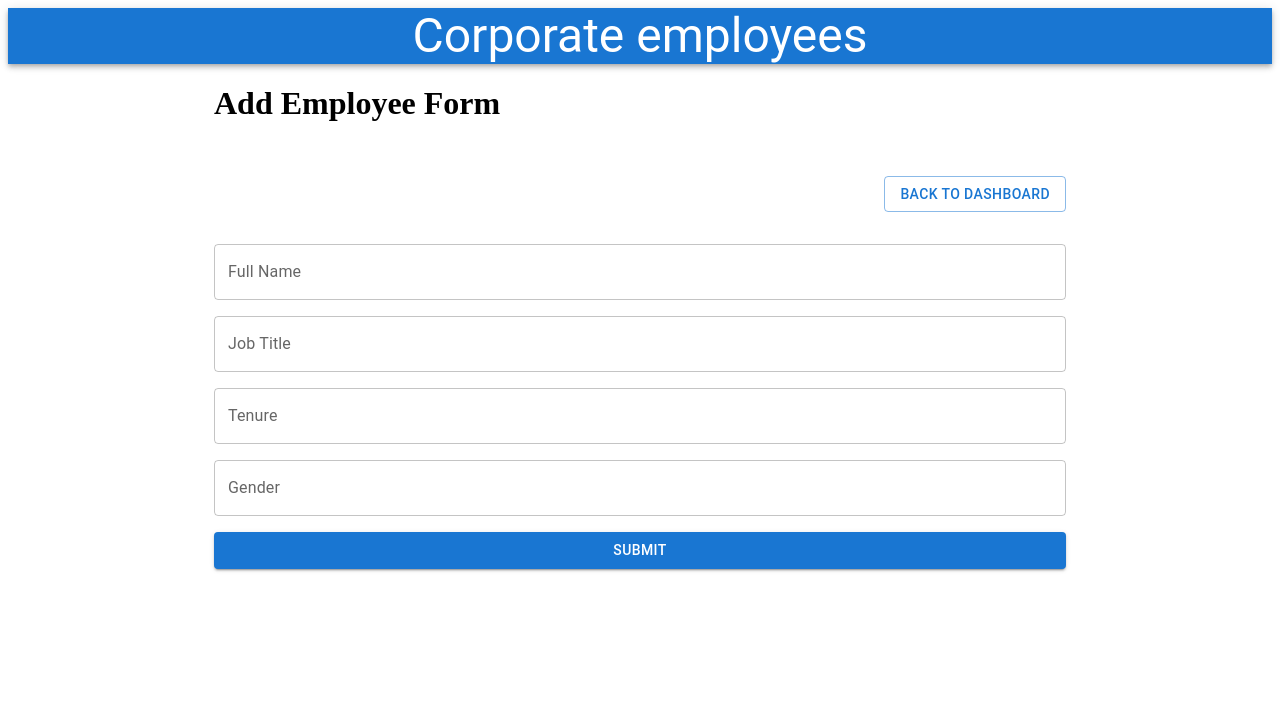
Test: Add Employee Form › should handle input validation
Type "Jane Doe" into the element with test id "name-input". click: (640, 280)
box: [214,244,1066,316]
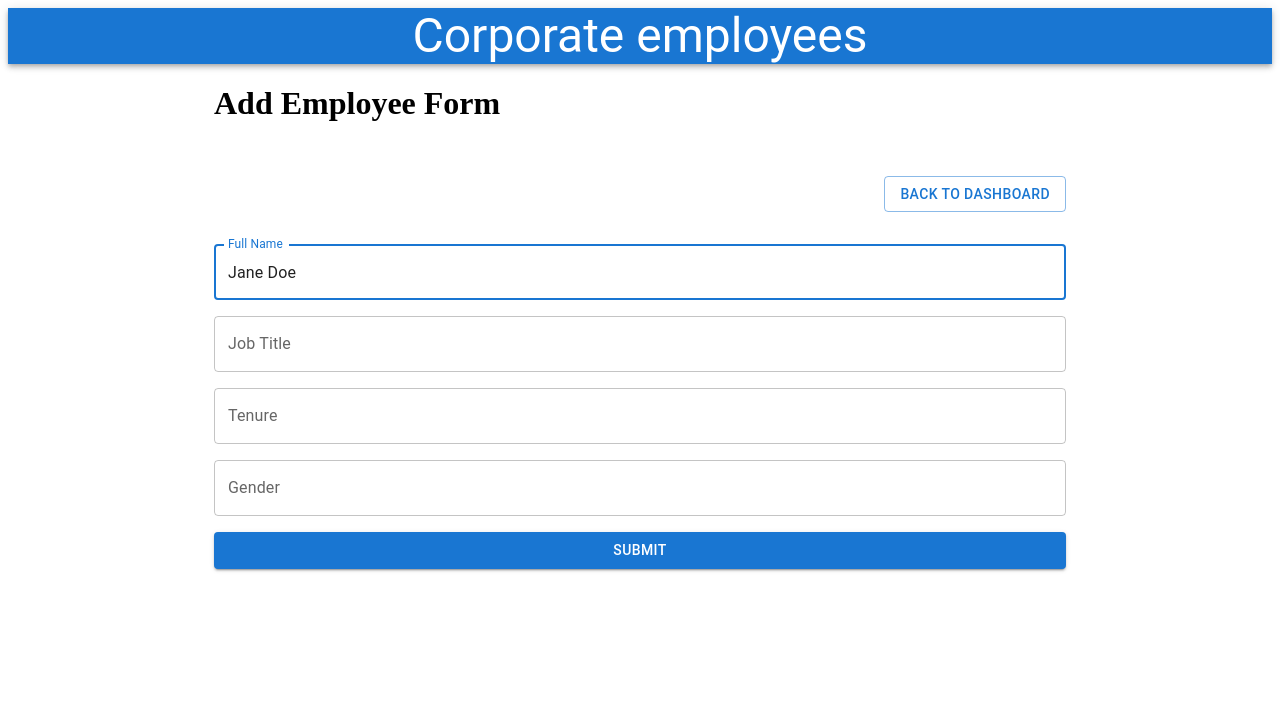
Type "Engineer" into the element with test id "jobTitle-input". click: (640, 352)
box: [214,316,1066,388]
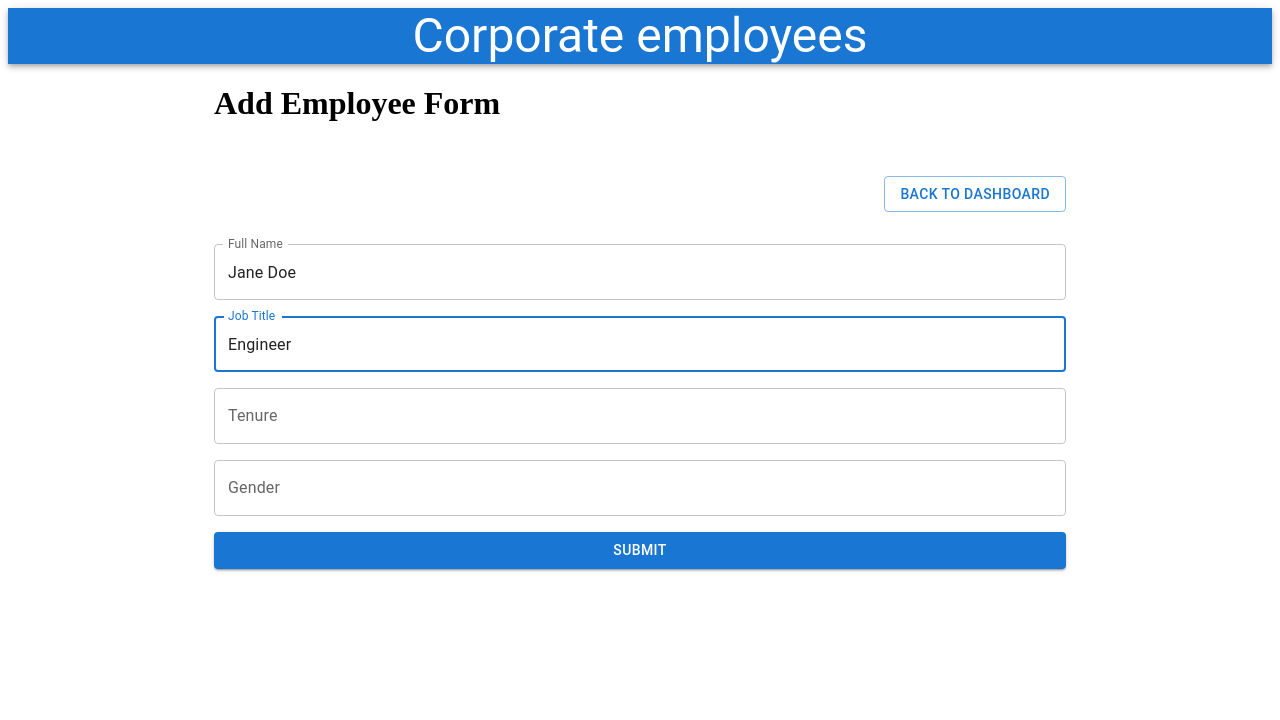
Type "2" into the element with test id "tenure-input". click: (640, 424)
box: [214,388,1066,460]
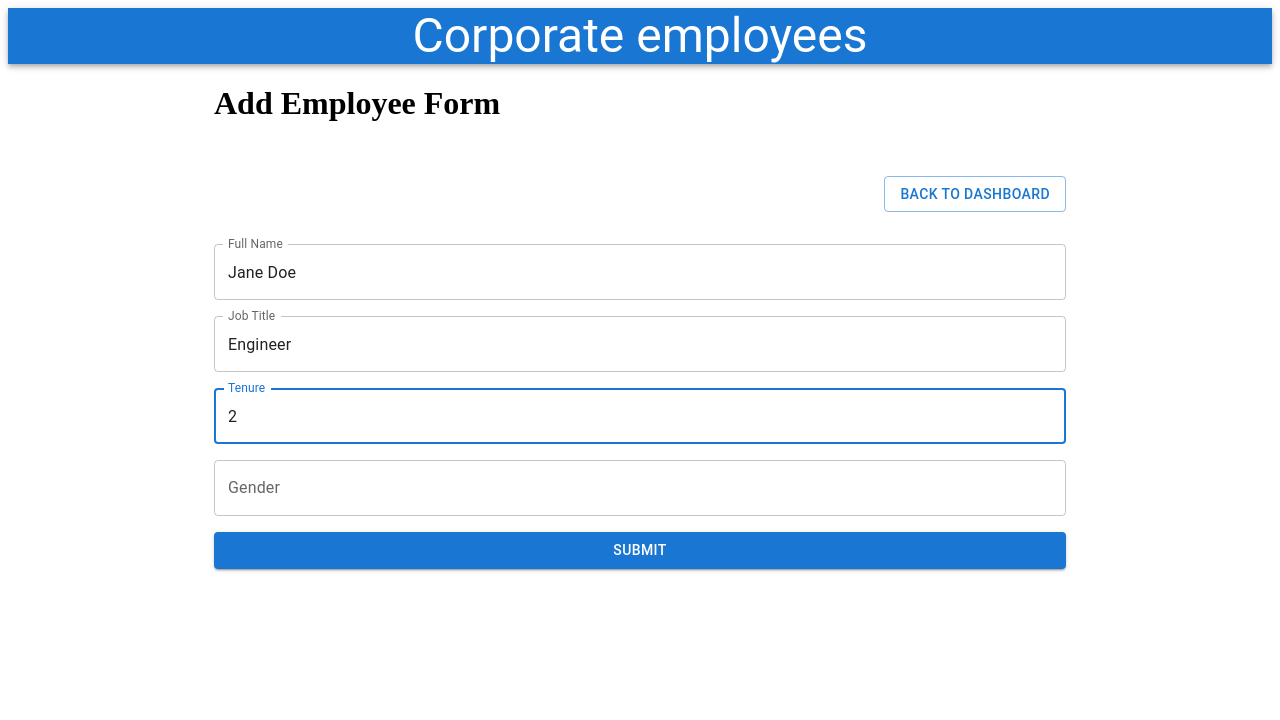
Type "Female" into the element with test id "gender-input". click: (640, 496)
box: [214,460,1066,532]
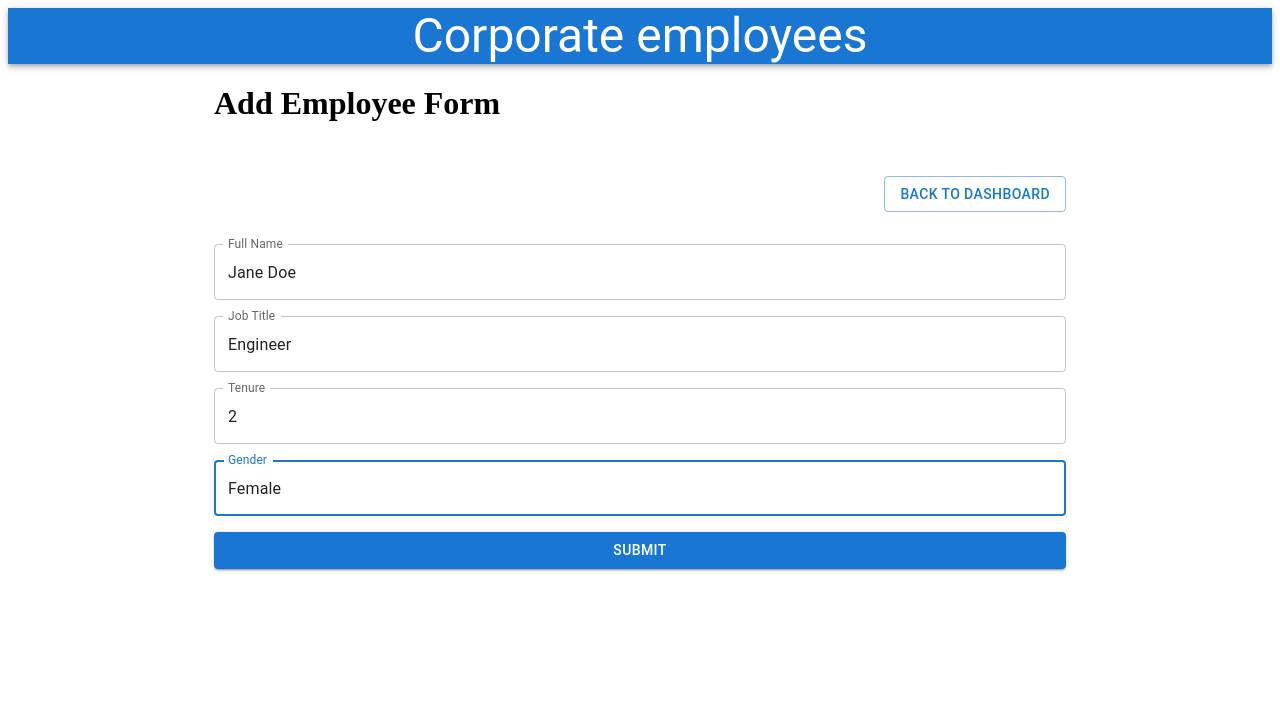
Click the button with test id "add-employee-form-submit-button". click: (640, 551)
box: [214,532,1066,569]
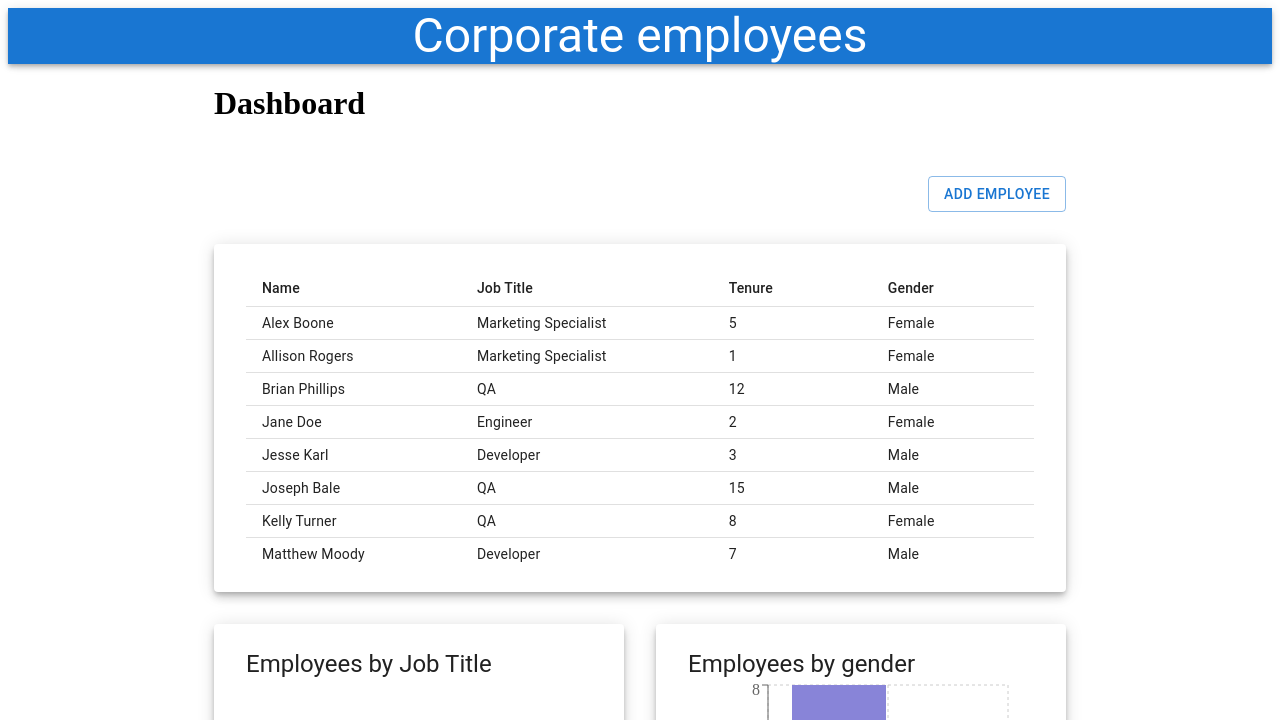
Check: the text "Jane Doe" is shown, box [246,406,461,439]
Check: the text "Engineer" is shown, box [461,406,713,439]
